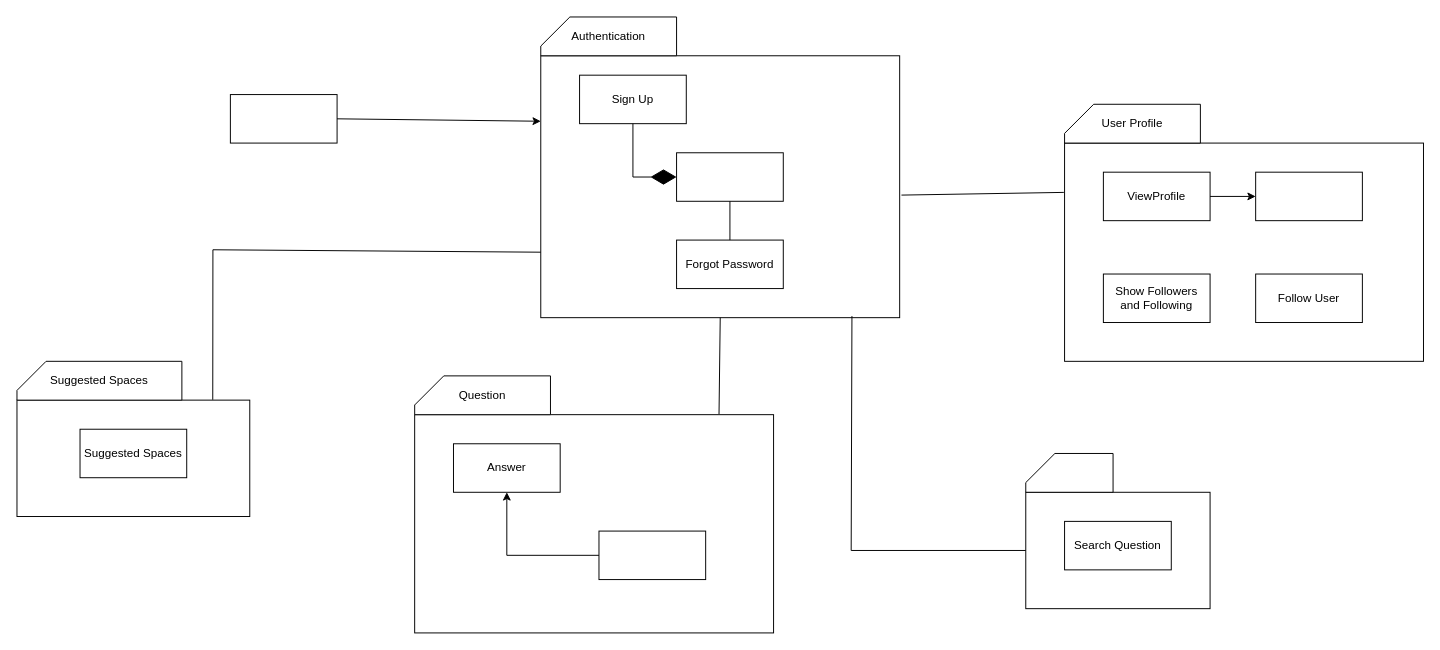
Image size: 1440x650. Some labels were removed from this diagram. The box of each missing label's shape, as (x1, y1, x2, y2) in pixels:
Create Question: (598, 530, 706, 580)
Login: (676, 152, 783, 201)
Search: (1025, 453, 1113, 492)
UpdateProfile: (1255, 171, 1362, 221)
User: (229, 94, 337, 143)
